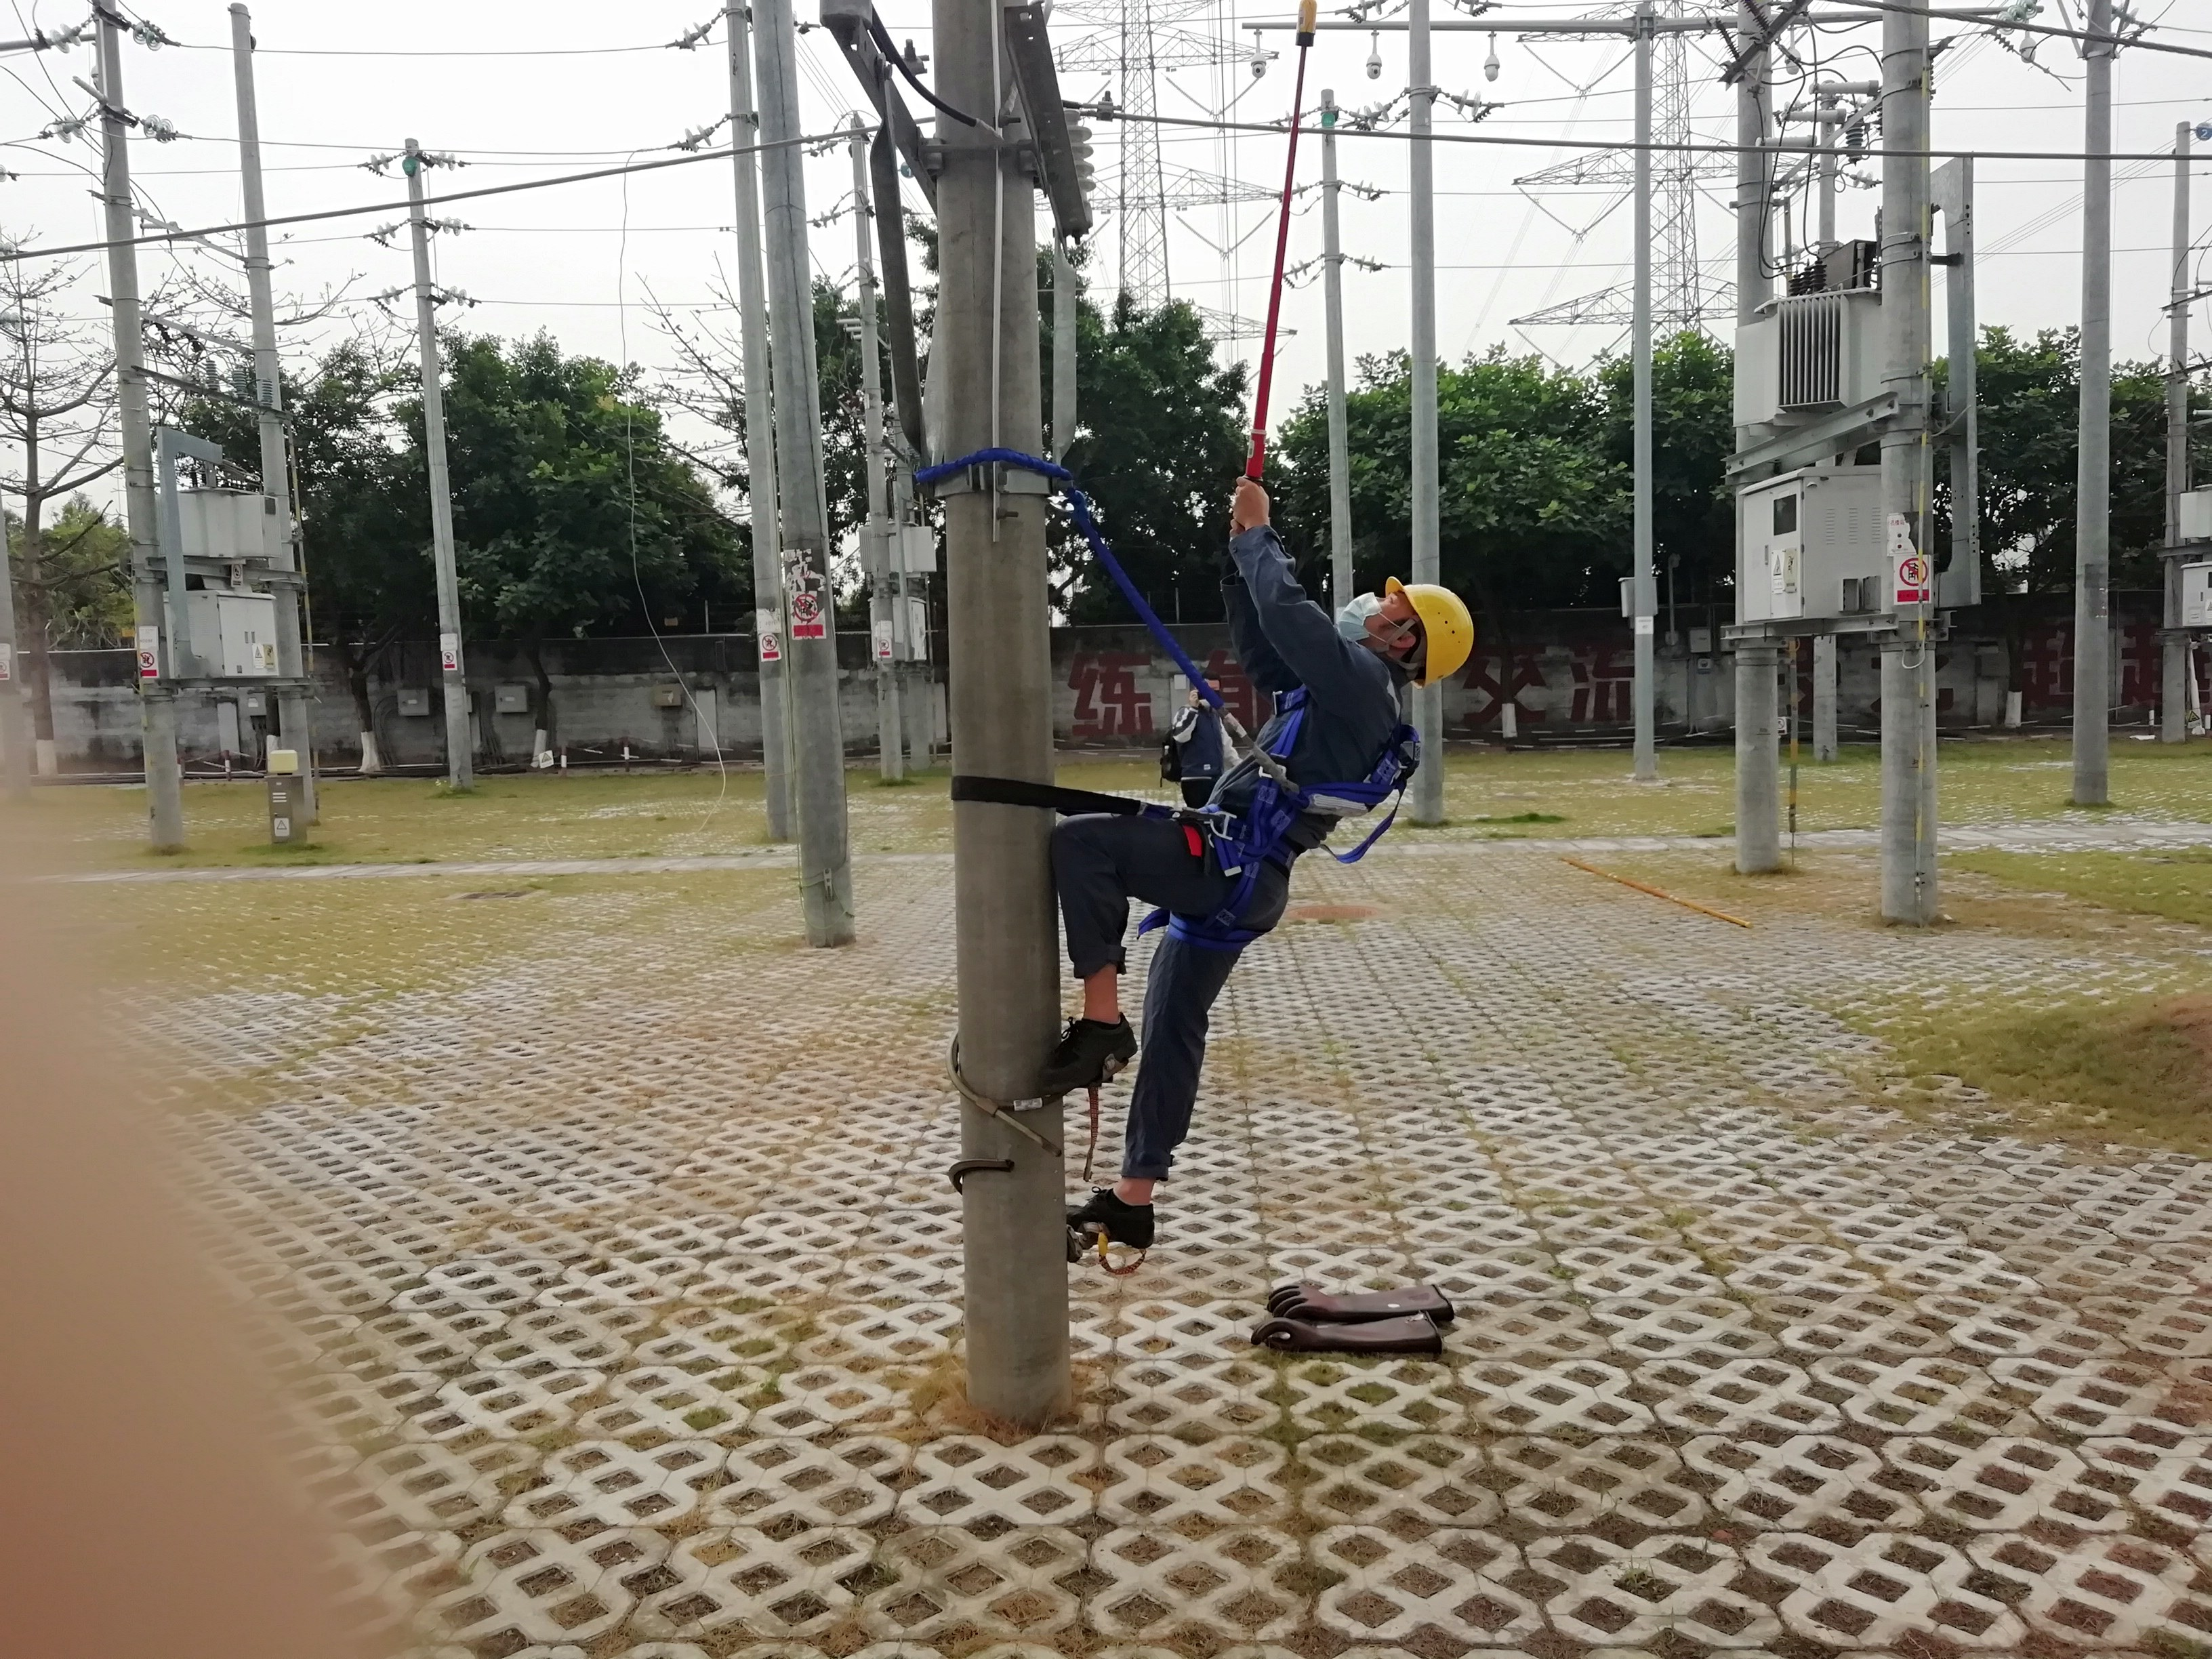downsuit: (1035, 798, 1298, 1213)
upsuit: (1198, 516, 1423, 882)
wrongbottom: (1066, 927, 1137, 1040)
